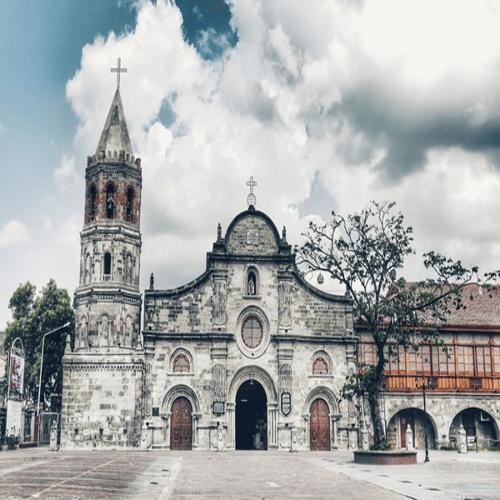Barasoain Church: (56, 55, 363, 453)
